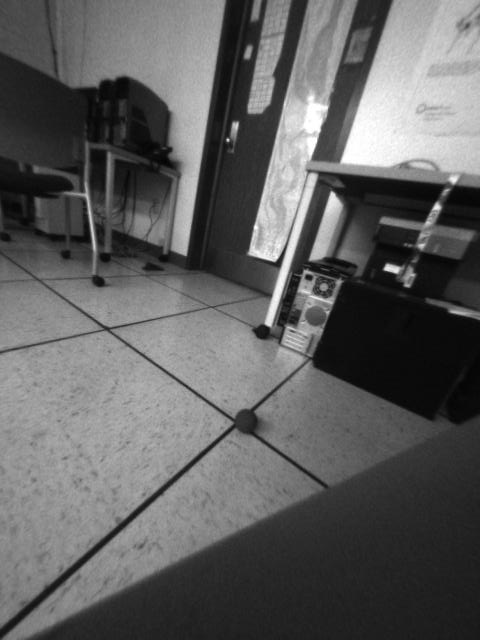dogtoy: (227, 400, 266, 440)
